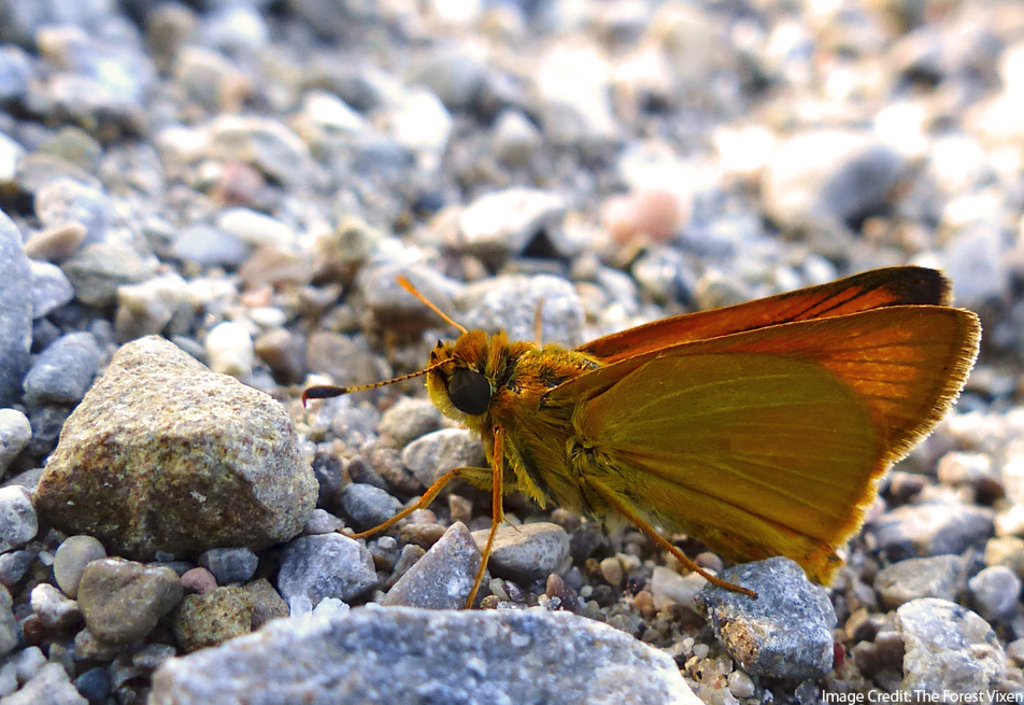Butterfly: (367, 255, 984, 569)
